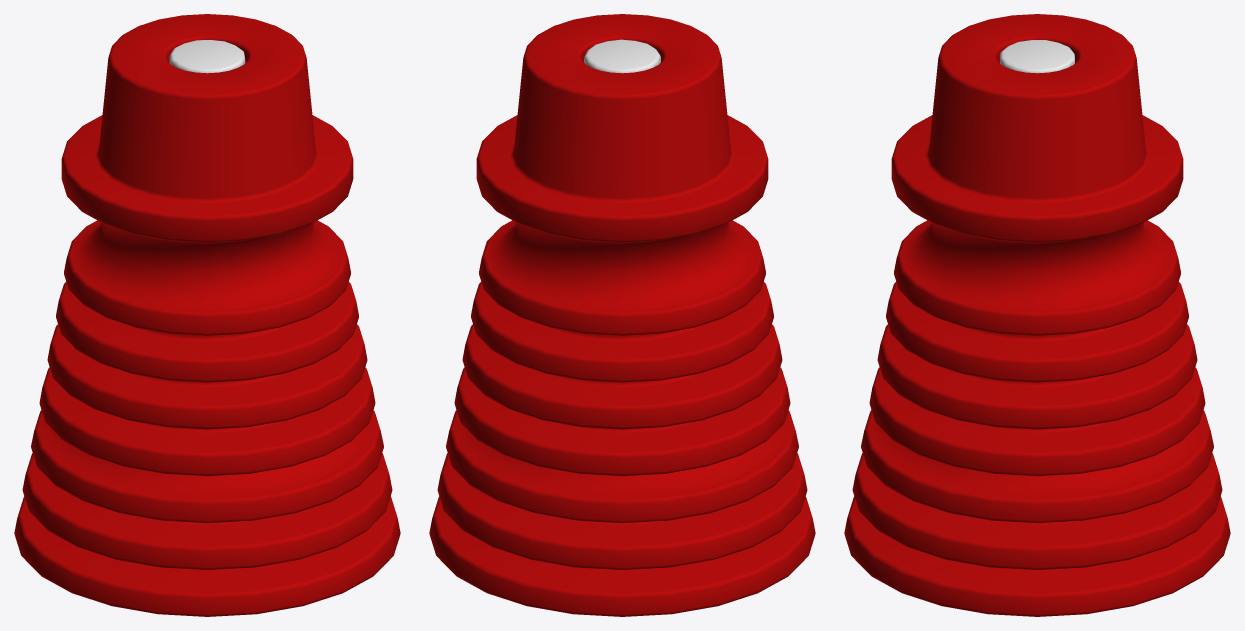
Rendered from Model - Plastic - Concentric Fin - 1in.fbx.
The picture shows the model from 3 angles, left to right: view 1: azimuth 30°, elevation 25°; view 2: azimuth 150°, elevation 25°; view 3: azimuth 270°, elevation 25°; orthographic projection.
Parts seen in each view (by area): view 1: Post - Plastic - Concentric Fin - 1"; view 2: Post - Plastic - Concentric Fin - 1"; view 3: Post - Plastic - Concentric Fin - 1".
Part boxes in pixels (left/top/right/bottom): Post - Plastic - Concentric Fin - 1": left=14, top=14, right=400, bottom=616; Post - Plastic - Concentric Fin - 1": left=429, top=14, right=815, bottom=616; Post - Plastic - Concentric Fin - 1": left=844, top=14, right=1230, bottom=616.
Size of the model in its own units: 1.84 by 2.54 by 1.84.
